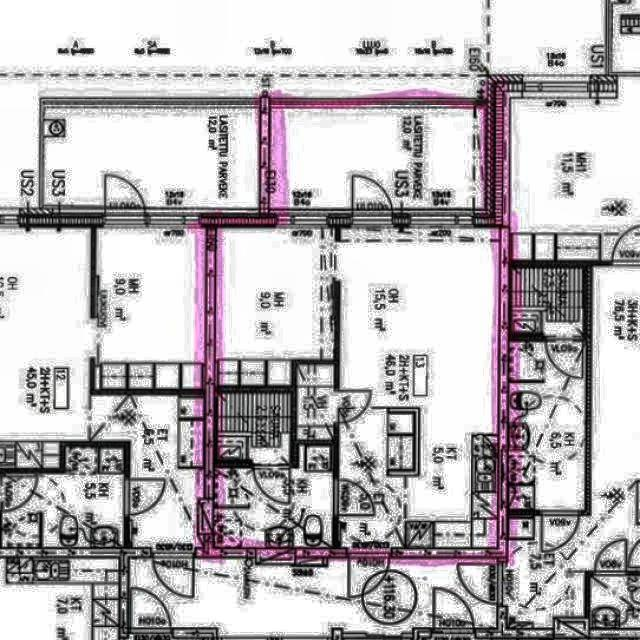room: (339, 226, 499, 548), (216, 227, 335, 386), (97, 227, 206, 388), (215, 446, 333, 547), (217, 394, 290, 460), (298, 364, 334, 438)
